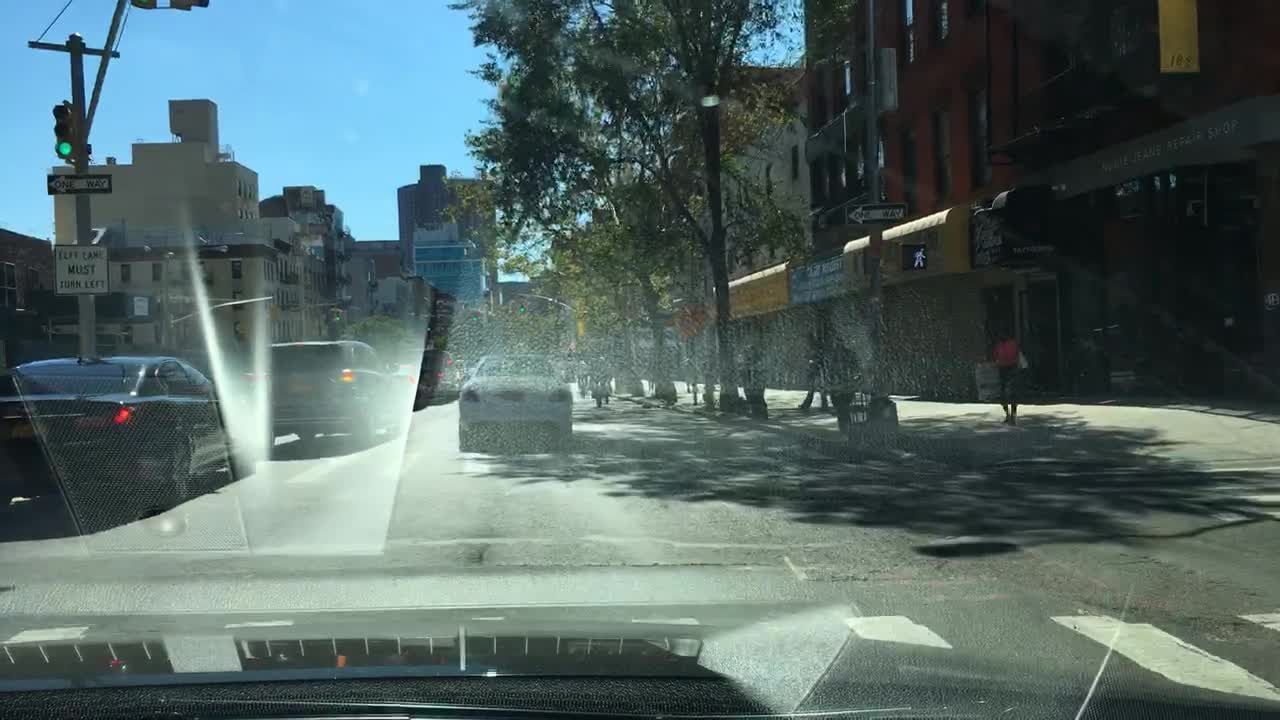bike: (591, 384, 612, 410), (577, 374, 588, 399), (560, 368, 574, 382)
car: (0, 355, 239, 536), (243, 339, 414, 444), (456, 353, 573, 455), (404, 348, 464, 409), (454, 359, 480, 383)
person: (826, 336, 866, 436), (991, 333, 1024, 426), (798, 332, 829, 414), (741, 343, 769, 417), (683, 357, 696, 394)
rider: (591, 354, 616, 387), (575, 356, 587, 377), (558, 359, 571, 369)
traffic light: (50, 104, 71, 162), (171, 0, 210, 11), (128, 0, 157, 12), (467, 311, 480, 325), (514, 296, 523, 313)
traffic sign: (53, 243, 112, 297), (44, 173, 112, 194), (841, 205, 909, 223)
